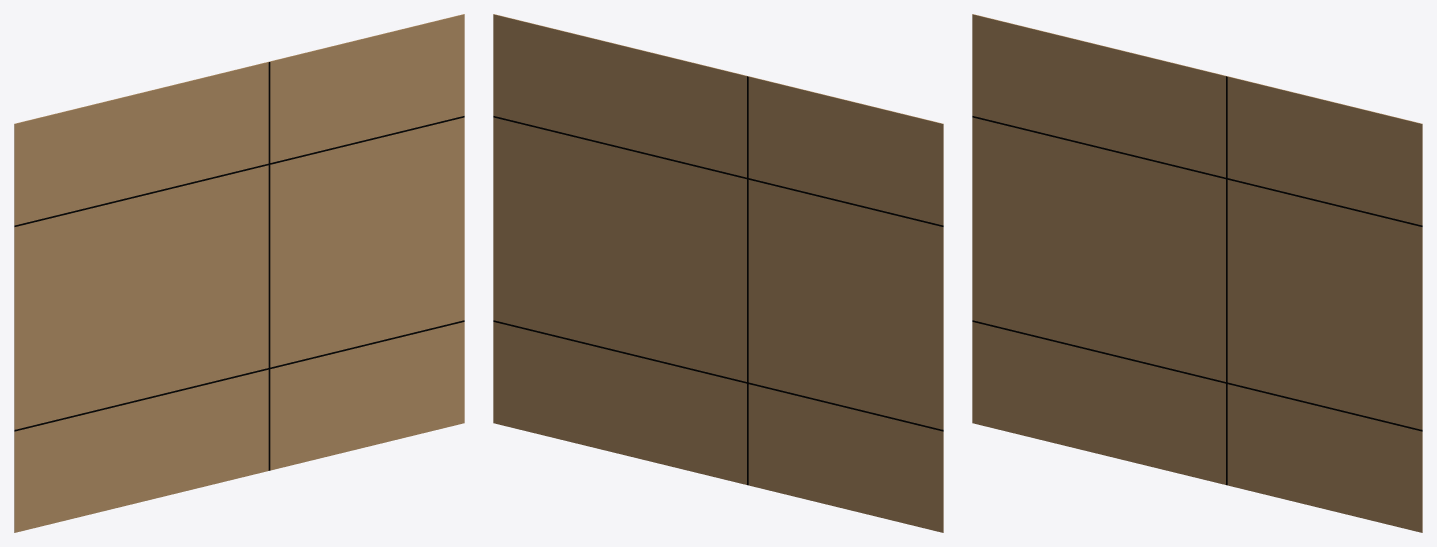
Rendered from FoldedBox.fbx.
The picture shows the model from 3 angles, left to right: view 1: azimuth 30°, elevation 25°; view 2: azimuth 150°, elevation 25°; view 3: azimuth 330°, elevation 25°; orthographic projection.
Visible parts, largest first — view 1: FoldedBox; view 2: FoldedBox; view 3: FoldedBox.
Part boxes in pixels (<box>): FoldedBox: <box>14,14,464,532</box>; FoldedBox: <box>493,14,943,532</box>; FoldedBox: <box>972,14,1422,532</box>.
Bounding box in the file's own units: 10600 × 9200 × 20.
